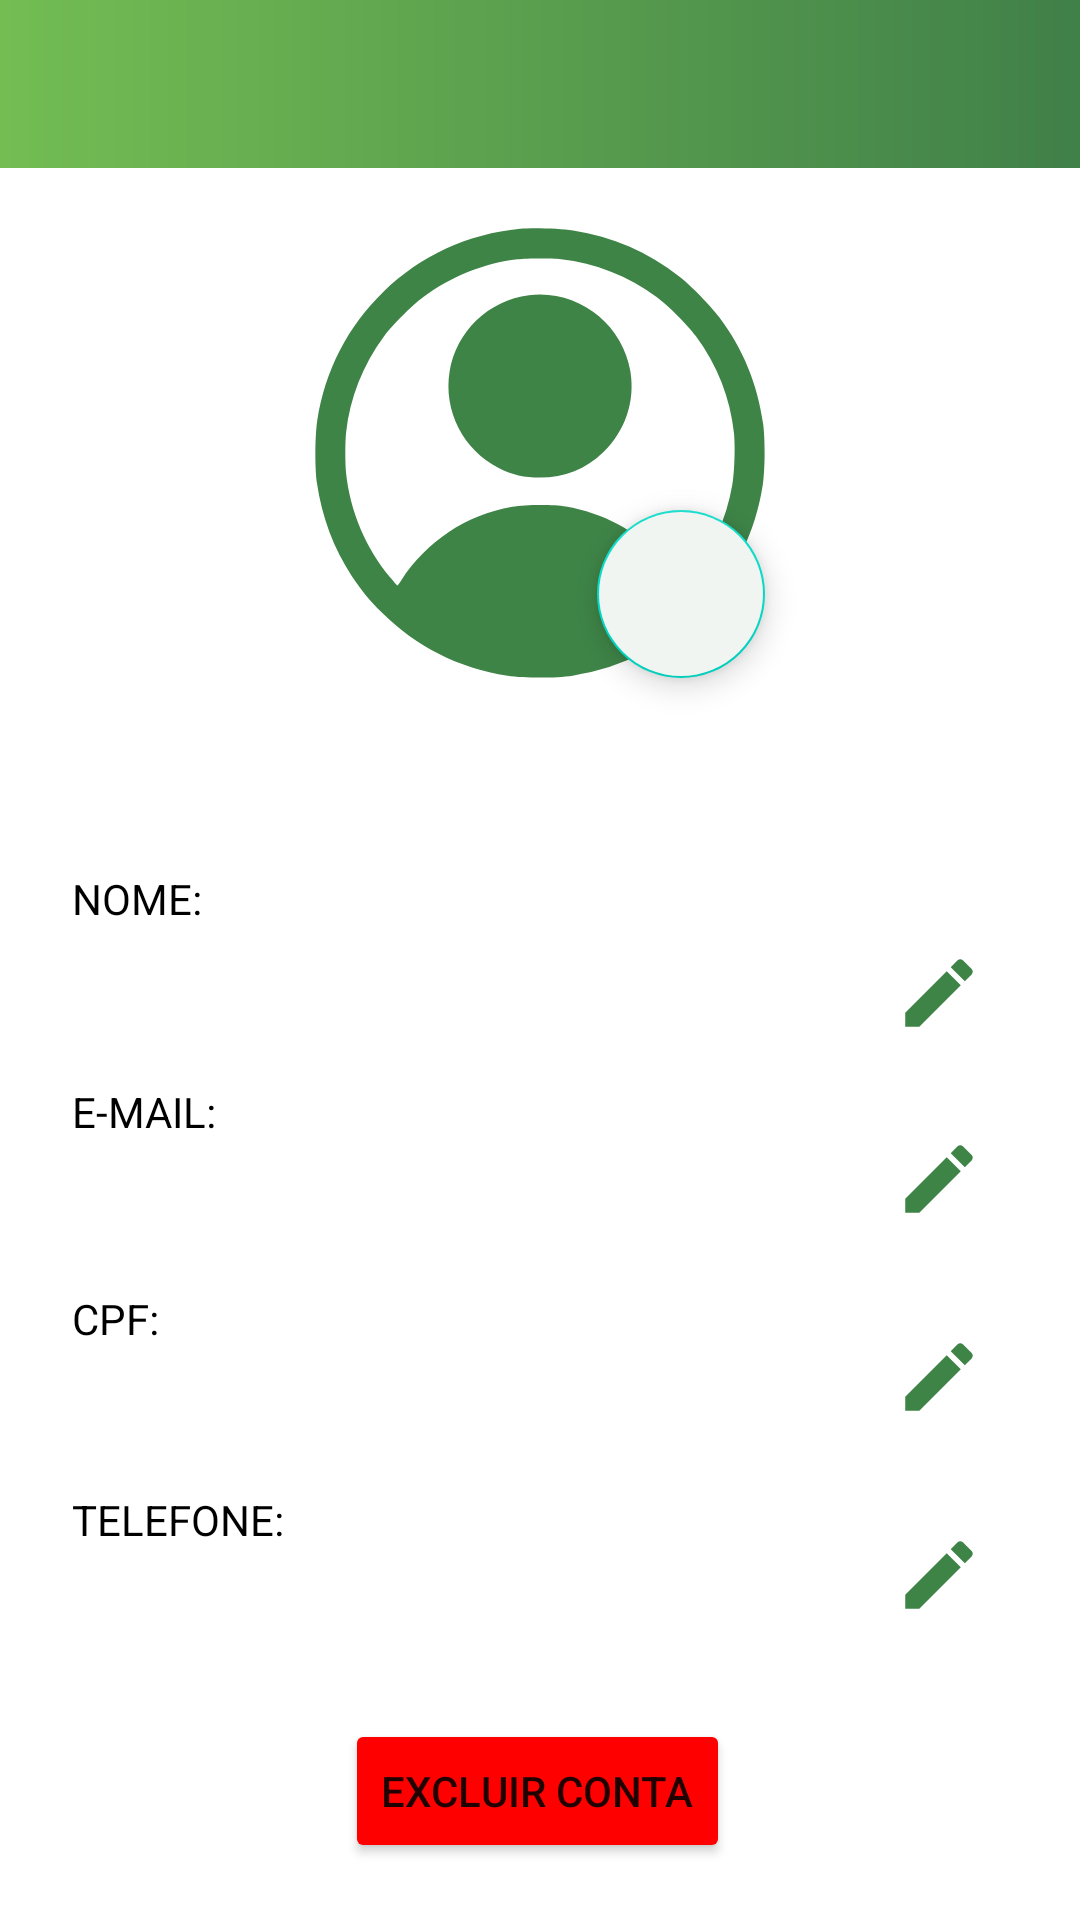

Locate icon controls on the screen. Image size 1080 x 1920, boxes as (x1, y1, x2, y2).
edit: (905, 959, 973, 1027), (905, 1145, 973, 1213), (905, 1343, 973, 1411), (905, 1541, 973, 1609)
